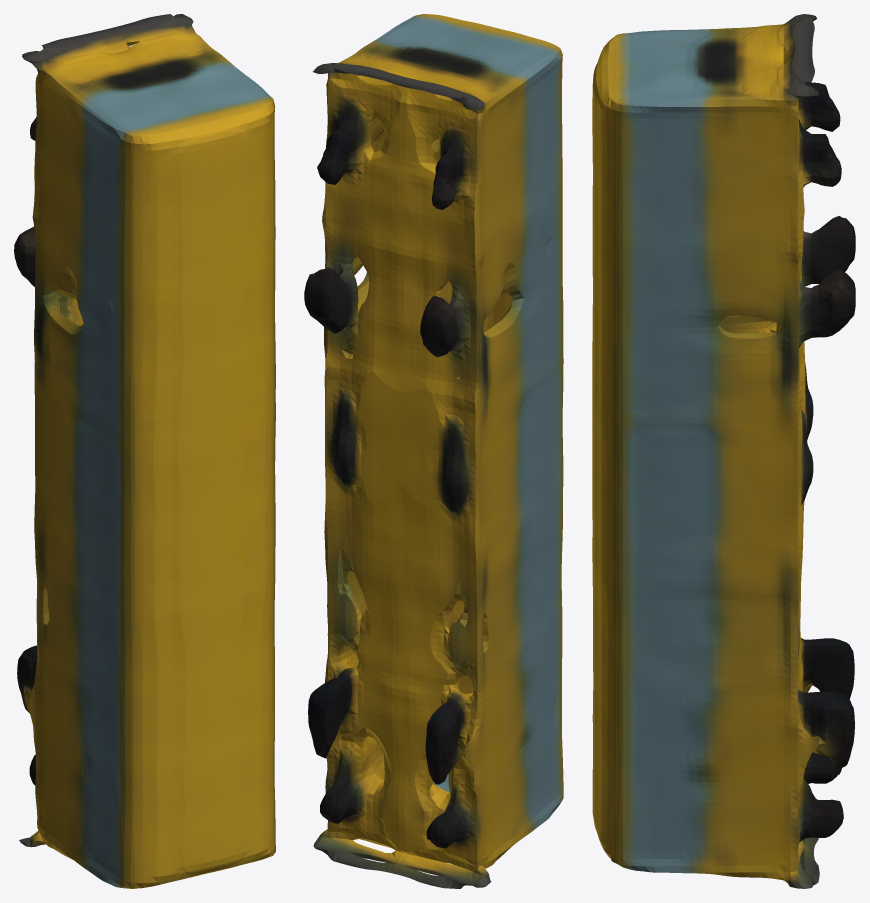
Rendered from school_bus_796850.glb.
3 views of the same model, side by side, from view 1: azimuth 30°, elevation 25°; view 2: azimuth 150°, elevation 25°; view 3: azimuth 270°, elevation 25° (orthographic).
Visible parts, largest first — view 1: world; view 2: world; view 3: world.
Part boxes in pixels (left/top/right/bottom): world: left=14, top=14, right=275, bottom=888; world: left=304, top=14, right=563, bottom=888; world: left=592, top=14, right=855, bottom=888.
Bounding box in the file's own units: 0.4497 × 1.97 × 0.5855.
